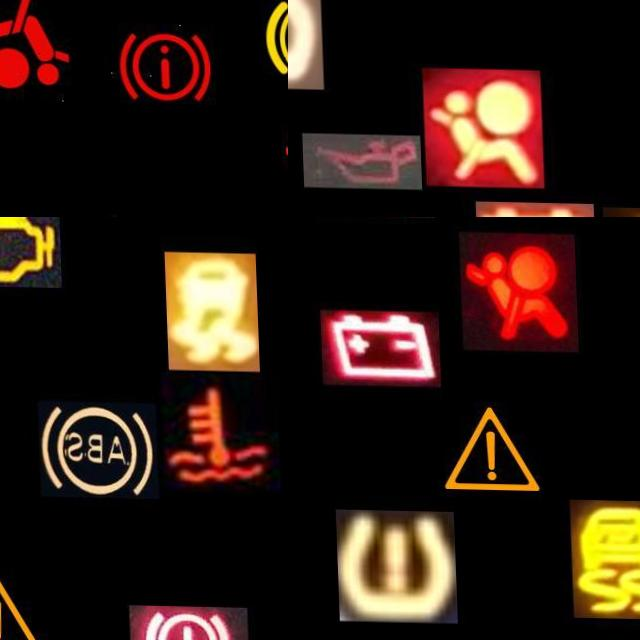Central Warning lamp: (428, 388, 549, 508), (0, 556, 54, 640)
Engine cooling system: (157, 370, 278, 491)
